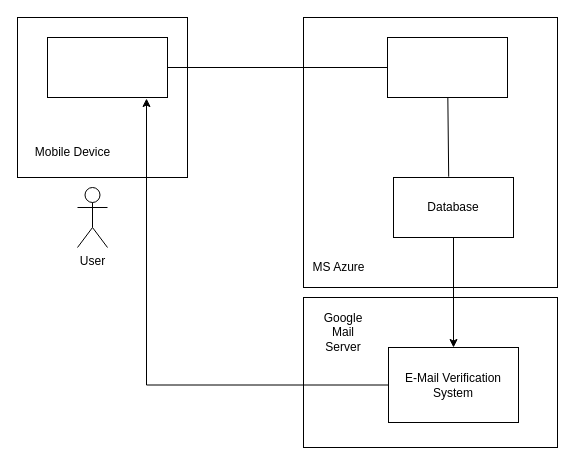
Image size: 575x465. Some labels were removed from this diagram. Each missing label, with the centre of its shape:
"API" belongs at point 447,67.
"Client (App)" belongs at point 107,67.
